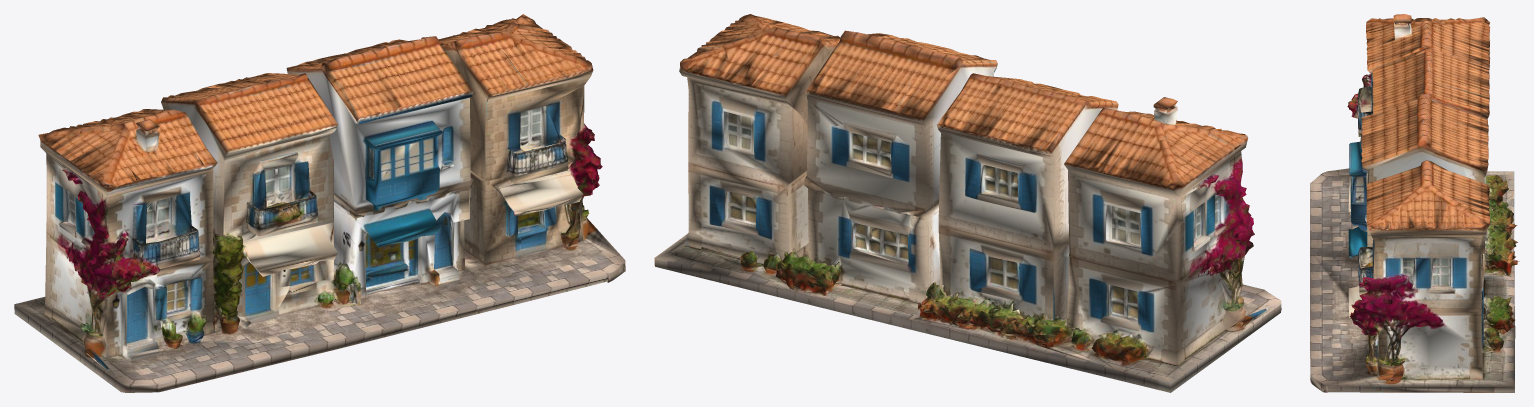
File: city_izmir_alacati.glb
3 renders of one model, left to right at view 1: azimuth 30°, elevation 25°; view 2: azimuth 150°, elevation 25°; view 3: azimuth 270°, elevation 25°, orthographic. The views are drawn at different scales.
Parts seen in each view (by area): view 1: Mesh1.0; view 2: Mesh1.0; view 3: Mesh1.0.
Boxes of the visible parts, box(x1,y1,x2,y2) form: Mesh1.0: box(14, 14, 625, 392); Mesh1.0: box(654, 14, 1281, 392); Mesh1.0: box(1310, 14, 1519, 392).
Bounding box in the file's own units: 20.97 × 9 × 8.67.
1 material, 1 textured.
